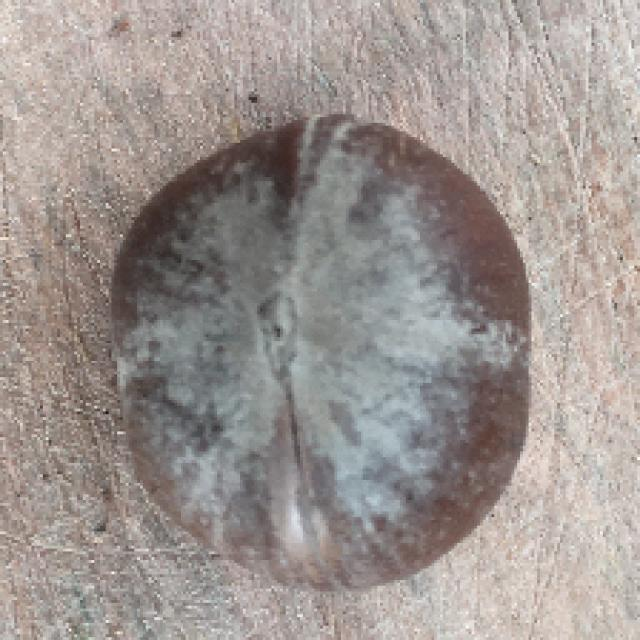damagedHazelnut: (104, 106, 534, 603)
